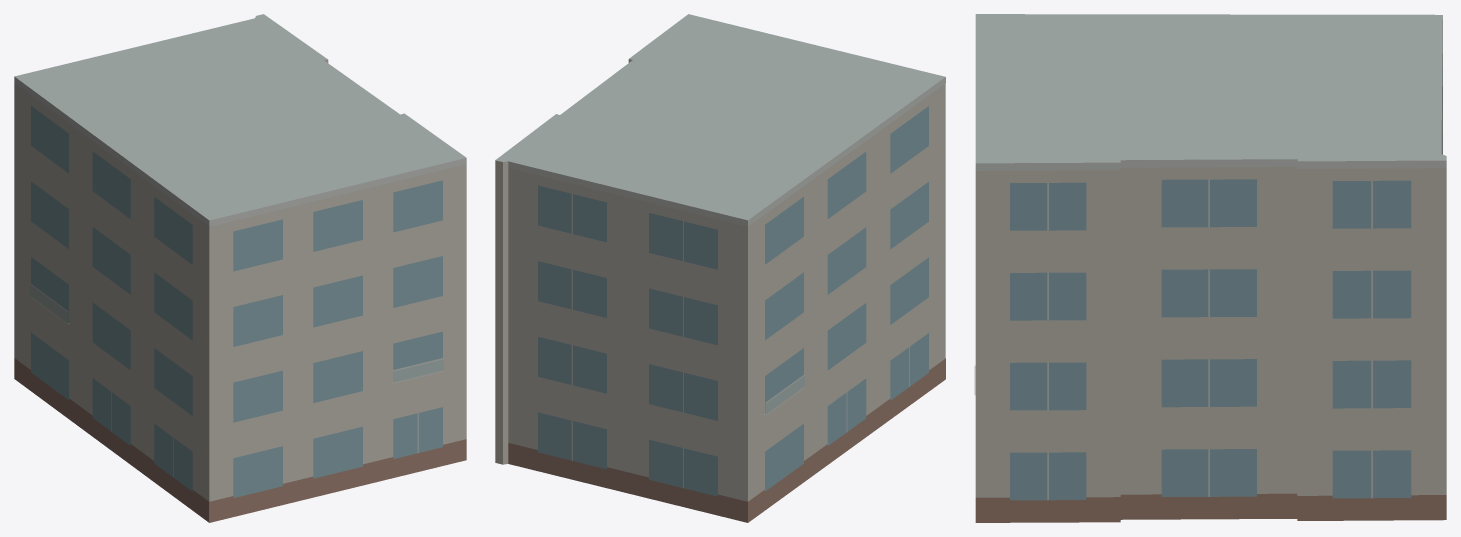
File: survey-upis-32741051.glb
3 views of the same model, side by side, from view 1: azimuth 30°, elevation 25°; view 2: azimuth 150°, elevation 25°; view 3: azimuth 270°, elevation 25° (orthographic). The views are drawn at different scales.
Visible parts, largest first — view 1: survey-upis-32741051.tmp; view 2: survey-upis-32741051.tmp; view 3: survey-upis-32741051.tmp.
Boxes of the visible parts, x1,y1,x2,y2 form: survey-upis-32741051.tmp: (14,14,466,522); survey-upis-32741051.tmp: (495,14,945,522); survey-upis-32741051.tmp: (974,14,1446,522).
Size of the model in its own units: 10.34 by 11.6 by 13.81.
